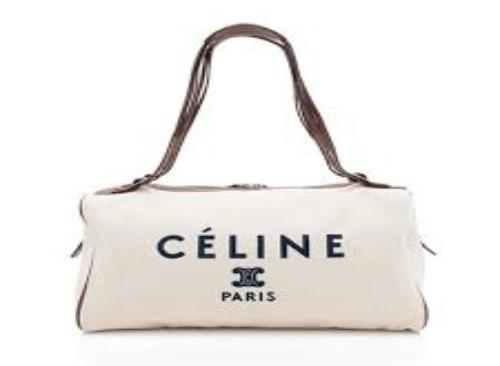CELINE: (148, 219, 351, 261)
